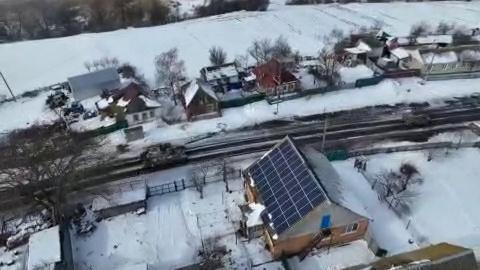tank: (142, 132, 216, 170)
